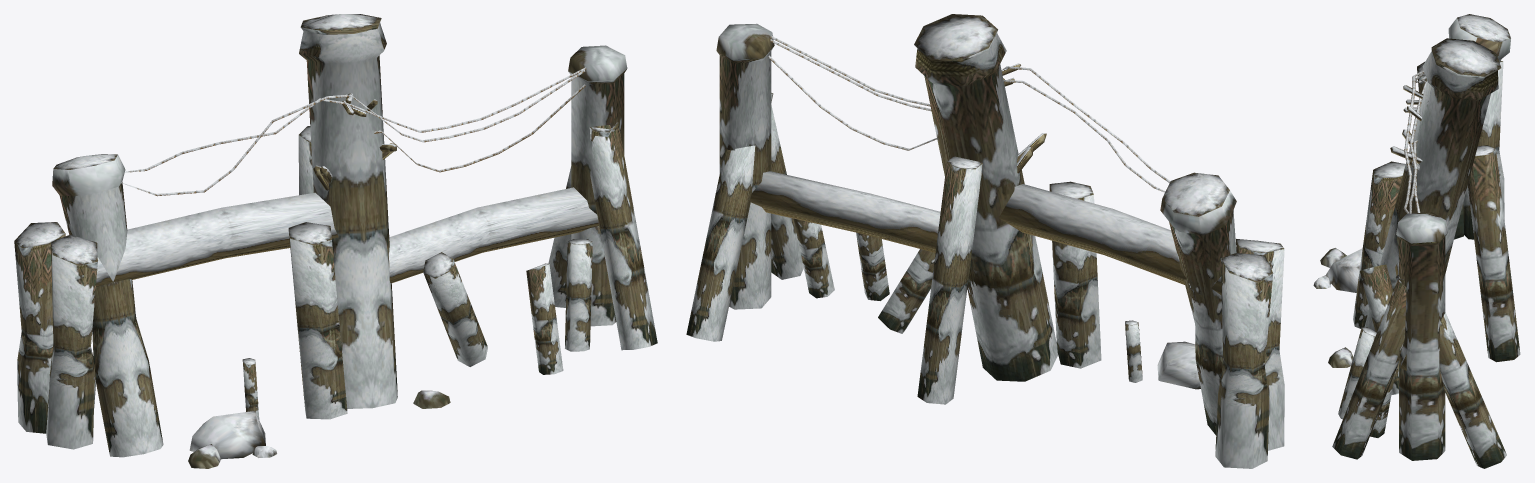
The model's file is environment_common_men_001_b.FBX.
3 renders of one model, left to right at view 1: azimuth 30°, elevation 25°; view 2: azimuth 150°, elevation 25°; view 3: azimuth 270°, elevation 25°, orthographic. The views are drawn at different scales.
Visible parts, largest first — view 1: environment_common_men_001_a, environment_common_men_001_c, environment_common_men_001_b; view 2: environment_common_men_001_a, environment_common_men_001_c, environment_common_men_001_b; view 3: environment_common_men_001_a, environment_common_men_001_b.
Boxes of the visible parts, x1,y1,x2,y2 form: environment_common_men_001_a: (14,14,657,468); environment_common_men_001_c: (96,187,598,286); environment_common_men_001_b: (121,67,586,196); environment_common_men_001_a: (686,14,1284,468); environment_common_men_001_c: (750,171,1221,295); environment_common_men_001_b: (768,35,1170,192); environment_common_men_001_a: (1313,14,1520,468); environment_common_men_001_b: (1390,70,1426,213).
Size of the model in its own units: 305 by 184 by 108.
